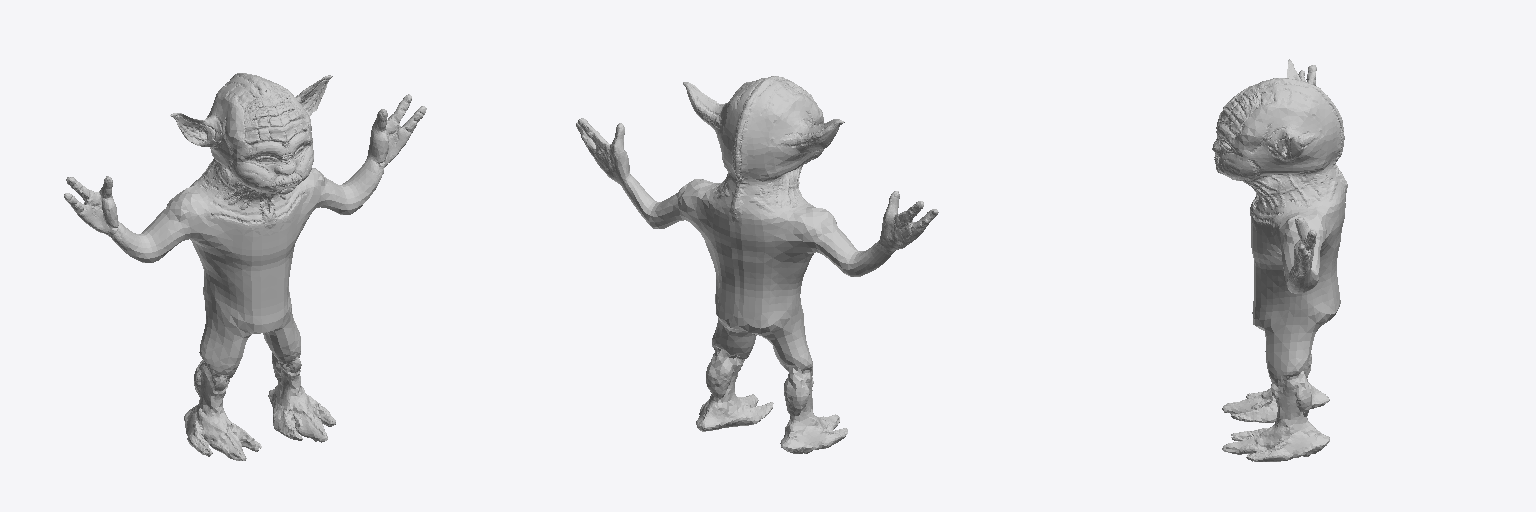
Rendered from Yoda_Mesh_Export_to_Blender.obj.
3 views of the same model, side by side, from view 1: azimuth 30°, elevation 25°; view 2: azimuth 150°, elevation 25°; view 3: azimuth 270°, elevation 25° (orthographic).
Size of the model in its own units: 16.36 by 15.31 by 5.29.